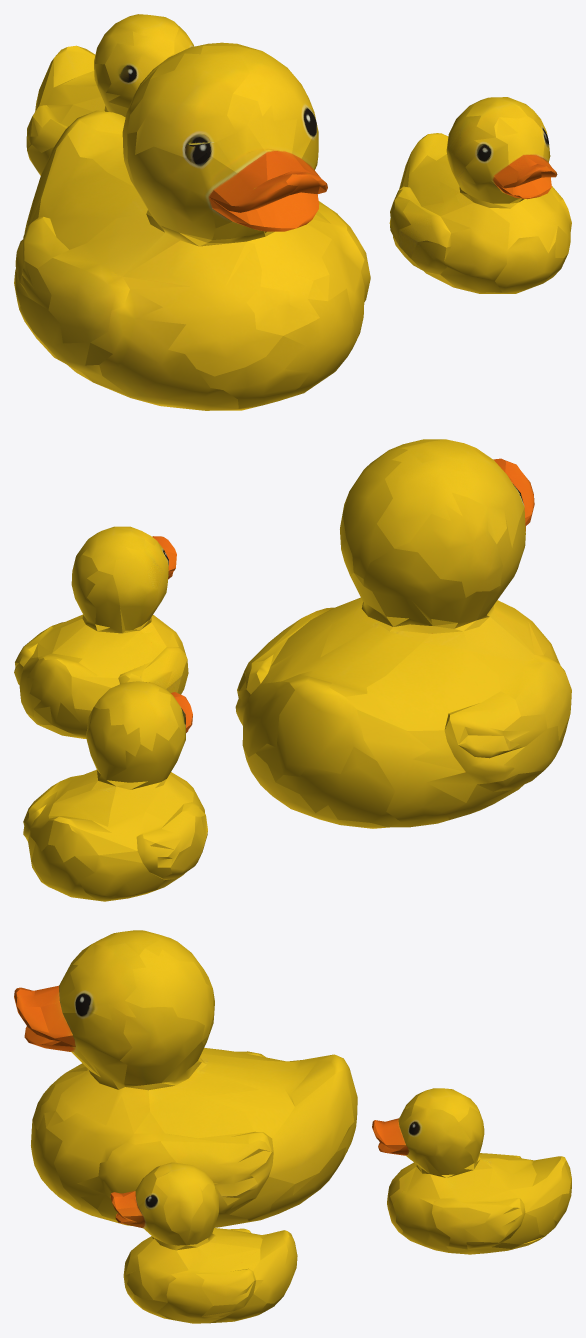
The model's file is meshy.glb.
3 renders of one model, top to bottom at view 1: azimuth 30°, elevation 25°; view 2: azimuth 150°, elevation 25°; view 3: azimuth 270°, elevation 25°, orthographic. The views are drawn at different scales.
Visible parts, largest first — view 1: Mesh_0; view 2: Mesh_0; view 3: Mesh_0.
Boxes of the visible parts, left/top/right/bottom form: Mesh_0: left=14, top=14, right=571, bottom=410; Mesh_0: left=14, top=439, right=571, bottom=901; Mesh_0: left=14, top=930, right=571, bottom=1323.
Bounding box in the file's own units: 1.63 × 0.9433 × 1.9.
1 material, 1 textured.
